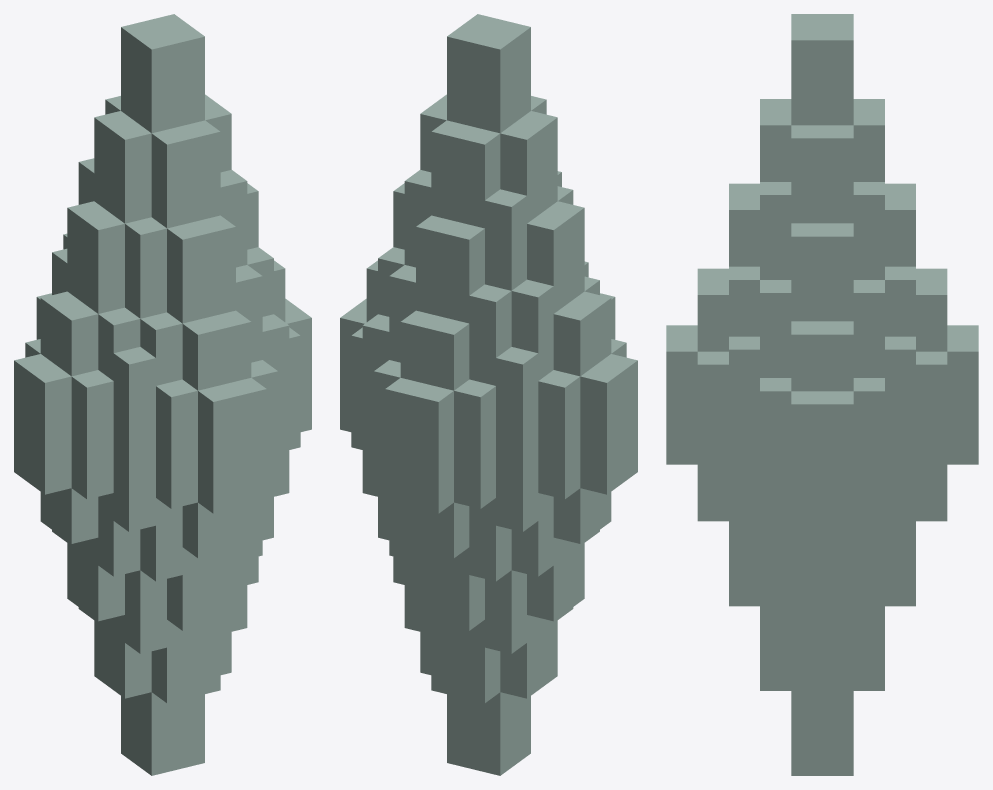
File: Crystal_Big_1.dae
The picture shows the model from 3 angles, left to right: view 1: azimuth 30°, elevation 25°; view 2: azimuth 150°, elevation 25°; view 3: azimuth 270°, elevation 25°; orthographic projection.
Visible parts, largest first — view 1: Crystal_Big_1; view 2: Crystal_Big_1; view 3: Crystal_Big_1.
Part boxes in pixels (x1,y1,x2,y2): Crystal_Big_1: [14, 14, 311, 775]; Crystal_Big_1: [340, 14, 637, 775]; Crystal_Big_1: [666, 14, 978, 775].
Bounding box in the file's own units: 0.25 × 0.25 × 0.65.
